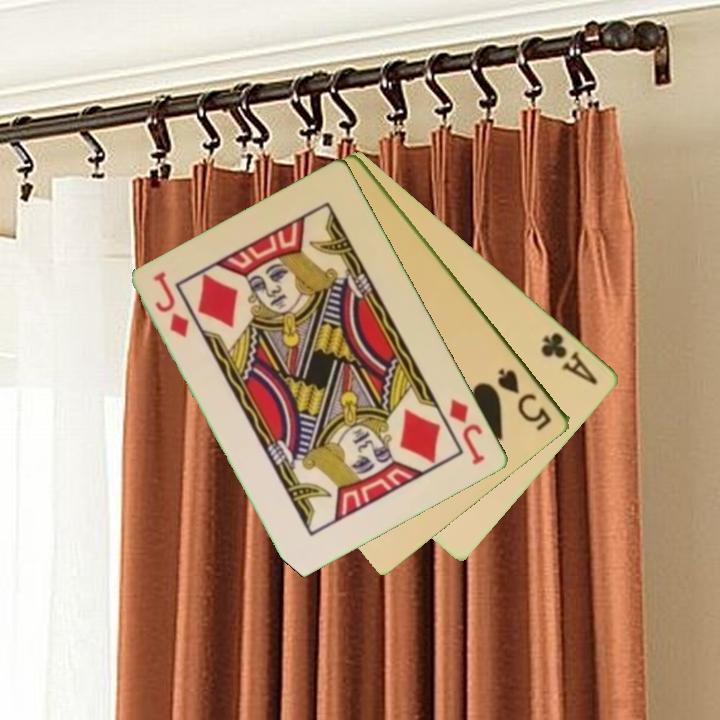5s: (494, 364, 556, 434)
Ac: (538, 328, 602, 388)
Jd: (446, 395, 489, 469), (150, 268, 193, 341)
